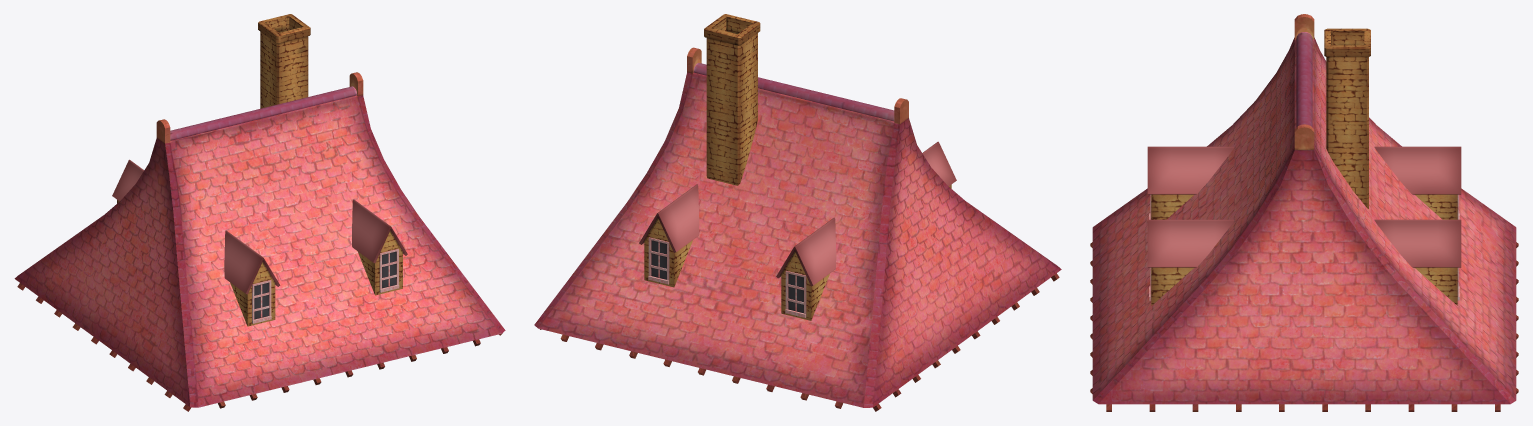
The model's file is sb_obj_outdoor024_PrincessCastle01_roof02.fbx.
3 renders of one model, left to right at view 1: azimuth 30°, elevation 25°; view 2: azimuth 150°, elevation 25°; view 3: azimuth 270°, elevation 25°, orthographic. The views are drawn at different scales.
Parts seen in each view (by area): view 1: sb_obj_outdoor024_PrincessCastle01_roof02; view 2: sb_obj_outdoor024_PrincessCastle01_roof02; view 3: sb_obj_outdoor024_PrincessCastle01_roof02.
Part boxes in pixels (<box>): sb_obj_outdoor024_PrincessCastle01_roof02: <box>14,14,505,411</box>; sb_obj_outdoor024_PrincessCastle01_roof02: <box>534,14,1061,411</box>; sb_obj_outdoor024_PrincessCastle01_roof02: <box>1090,14,1518,411</box>.
Bounding box in the file's own units: 9.98 × 7.9 × 9.92.
